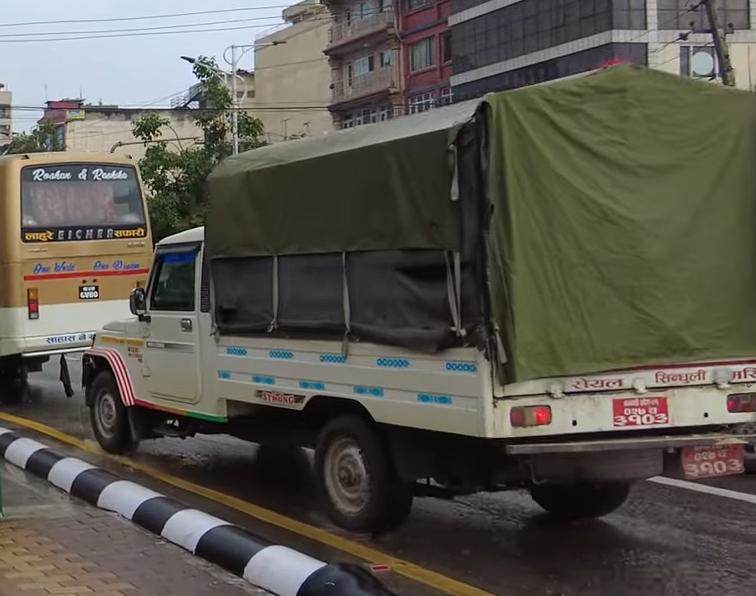bus: (0, 109, 148, 414)
transport_vehicle: (78, 69, 756, 525)
